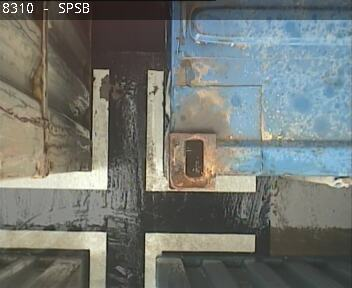groundmarker_1: (1, 69, 256, 190), (1, 229, 254, 288)
